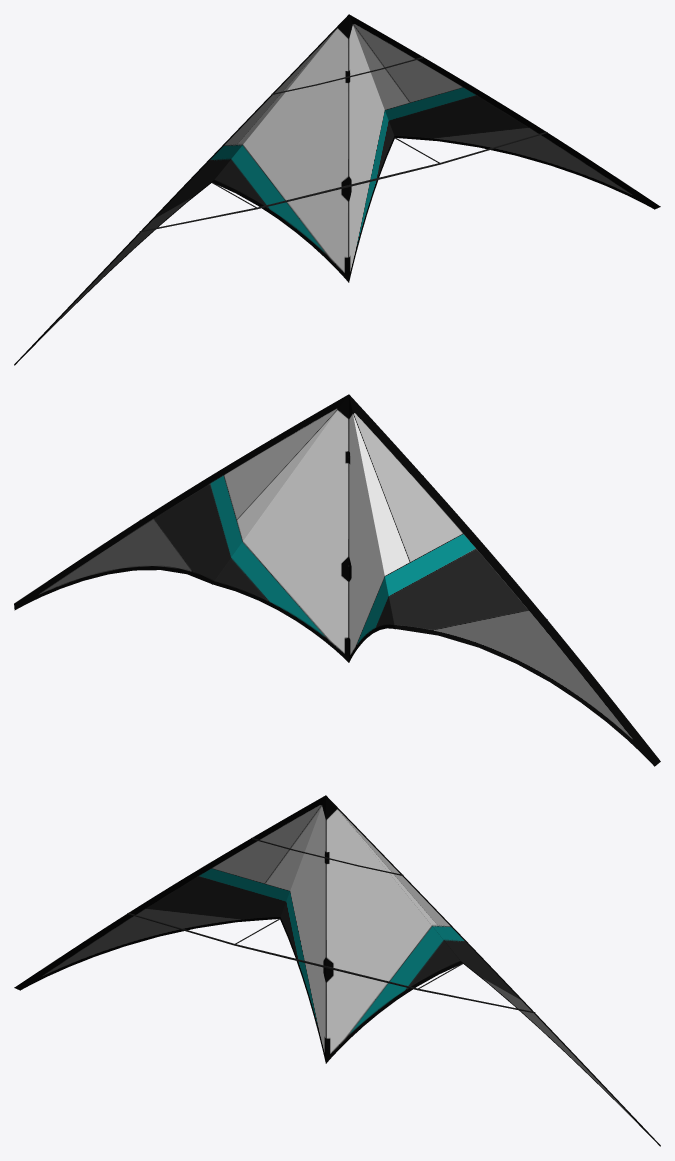
The model's file is POC-2018.obj.
The picture shows the model from 3 angles, top to bottom: view 1: azimuth 30°, elevation 25°; view 2: azimuth 150°, elevation 25°; view 3: azimuth 330°, elevation 25°; orthographic projection.
Size of the model in its own units: 2266 by 950 by 277.
Materials: 3 (2 with a texture image).
